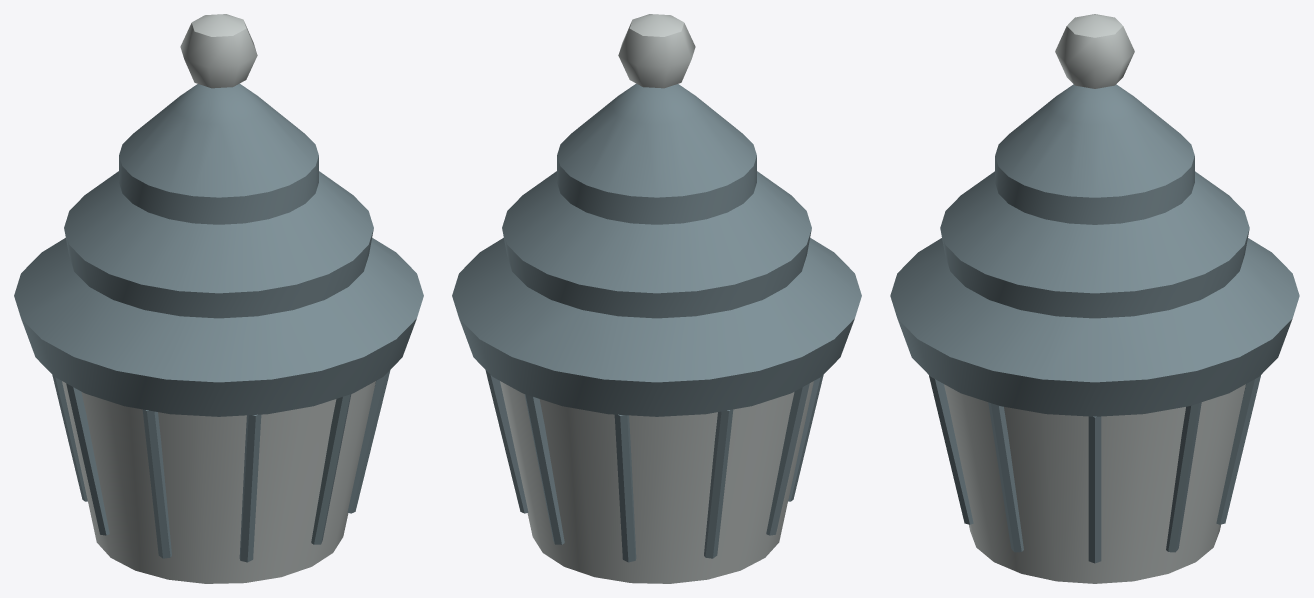
File: cupcake.glb
The picture shows the model from 3 angles, left to right: view 1: azimuth 30°, elevation 25°; view 2: azimuth 150°, elevation 25°; view 3: azimuth 270°, elevation 25°; orthographic projection.
Visible parts, largest first — view 1: frosting_swirl, fluted_wrapper, cherry, wrapper_fold.004, wrapper_fold.003, wrapper_fold.002, wrapper_fold.005, wrapper_fold.001, wrapper_fold.006; view 2: frosting_swirl, fluted_wrapper, cherry, wrapper_fold.006, wrapper_fold.007, wrapper_fold.008, wrapper_fold.005, wrapper_fold.009, wrapper_fold.004; view 3: frosting_swirl, fluted_wrapper, cherry, wrapper_fold.001, wrapper_fold.009, wrapper_fold, wrapper_fold.002, wrapper_fold.008.
Part boxes in pixels (x1,y1,x2,y2): frosting_swirl: (14,83,423,416); fluted_wrapper: (62,381,375,583); cherry: (180,14,257,88); wrapper_fold.004: (142,409,171,558); wrapper_fold.003: (239,414,261,562); wrapper_fold.002: (311,394,351,544); wrapper_fold.005: (66,383,109,535); wrapper_fold.001: (347,370,390,513); wrapper_fold.006: (52,375,87,501); frosting_swirl: (452,83,861,416); fluted_wrapper: (500,381,813,583); cherry: (618,14,695,88); wrapper_fold.006: (704,409,733,558); wrapper_fold.007: (614,414,636,562); wrapper_fold.008: (524,394,564,544); wrapper_fold.005: (766,383,809,535); wrapper_fold.009: (485,370,528,513); wrapper_fold.004: (788,375,823,501); frosting_swirl: (890,84,1299,416); fluted_wrapper: (944,384,1245,583); cherry: (1055,14,1134,88); wrapper_fold.001: (988,402,1023,552); wrapper_fold.009: (1166,402,1201,552); wrapper_fold: (1088,416,1101,563); wrapper_fold.002: (929,375,973,524); wrapper_fold.008: (1216,375,1260,524).
Bounding box in the file's own units: 0.082 × 0.114 × 0.082.
